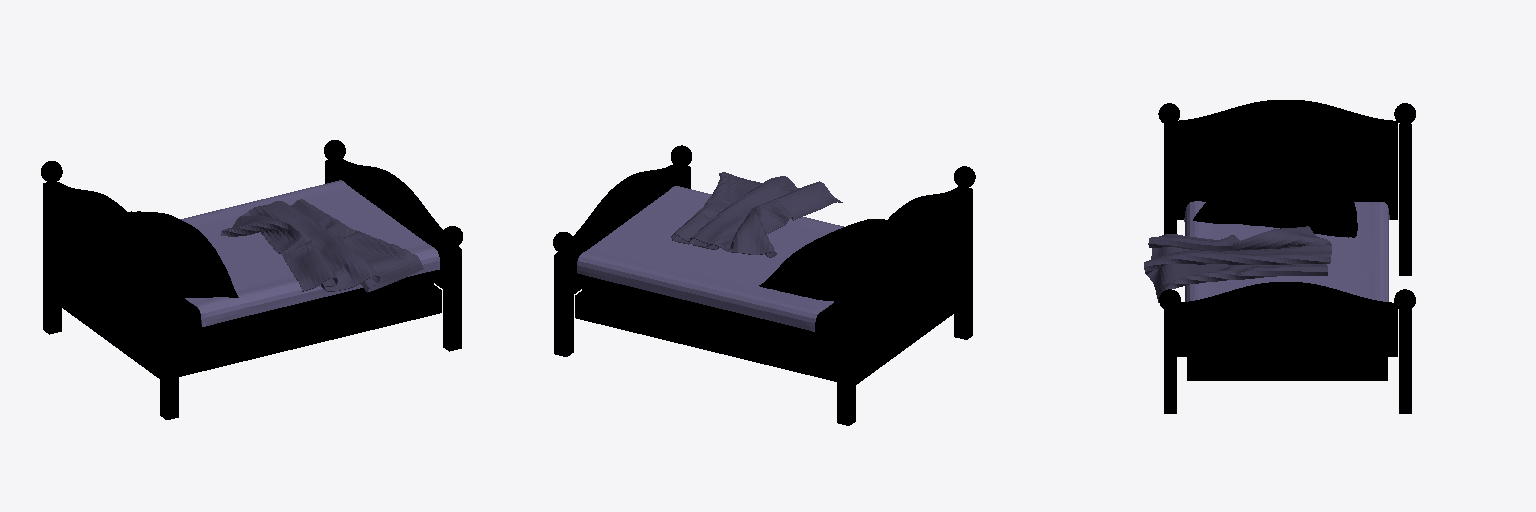
The picture shows the model from 3 angles: view 1: azimuth 30°, elevation 25°; view 2: azimuth 150°, elevation 25°; view 3: azimuth 270°, elevation 25°; orthographic projection.
Parts seen in each view (by area): view 1: pasted__pSphere1, CamaM:Oldblanket1pCube325, CamaM:pCube325Oldblanket2, CamaM:OldbedwoodsupportpolySurface1271, CamaM:polySurface1271OldMattress, CamaM:pCube324Oldpillow1; view 2: pasted__pSphere1, CamaM:Oldblanket1pCube325, CamaM:OldbedwoodsupportpolySurface1271, CamaM:pCube325Oldblanket2, CamaM:polySurface1271OldMattress, CamaM:pCube324Oldpillow1; view 3: pasted__pSphere1, CamaM:pCube324Oldpillow1, CamaM:pCube325Oldblanket2, CamaM:Oldblanket1pCube325, CamaM:OldbedwoodsupportpolySurface1271.
Boxes of the visible parts, box(x1,y1,x2,y2) form: pasted__pSphere1: box(41, 140, 462, 419); CamaM:Oldblanket1pCube325: box(180, 180, 439, 326); CamaM:pCube325Oldblanket2: box(221, 199, 423, 292); CamaM:OldbedwoodsupportpolySurface1271: box(62, 285, 441, 378); CamaM:polySurface1271OldMattress: box(179, 271, 433, 349); CamaM:pCube324Oldpillow1: box(128, 211, 238, 299); pasted__pSphere1: box(553, 145, 975, 425); CamaM:Oldblanket1pCube325: box(577, 186, 843, 331); CamaM:OldbedwoodsupportpolySurface1271: box(575, 291, 954, 384); CamaM:pCube325Oldblanket2: box(671, 172, 842, 257); CamaM:polySurface1271OldMattress: box(582, 275, 836, 355); CamaM:pCube324Oldpillow1: box(759, 219, 886, 302); pasted__pSphere1: box(1158, 100, 1415, 413); CamaM:pCube324Oldpillow1: box(1193, 151, 1375, 237); CamaM:pCube325Oldblanket2: box(1144, 226, 1331, 302); CamaM:Oldblanket1pCube325: box(1184, 201, 1389, 301); CamaM:OldbedwoodsupportpolySurface1271: box(1187, 357, 1387, 380).
Size of the model in its own units: 158 by 86.21 by 124.
4 materials, 2 textured.